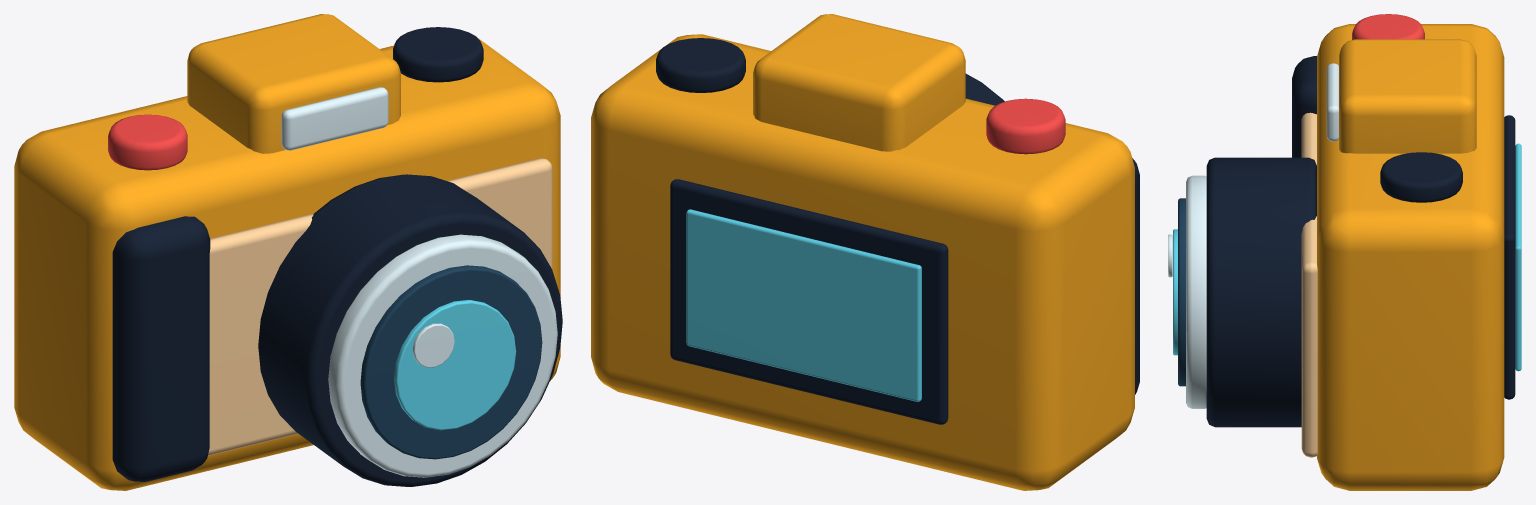
The model's file is camera.glb.
The picture shows the model from 3 angles, left to right: view 1: azimuth 30°, elevation 25°; view 2: azimuth 150°, elevation 25°; view 3: azimuth 270°, elevation 25°; orthographic projection. The views are drawn at different scales.
Parts seen in each view (by area): view 1: camera; view 2: camera; view 3: camera.
Part boxes in pixels (left/top/right/bottom): camera: left=14, top=14, right=562, bottom=490; camera: left=591, top=14, right=1139, bottom=490; camera: left=1168, top=14, right=1521, bottom=490.
Bounding box in the file's own units: 1 × 0.7389 × 0.7133.
Materials: 1 (1 with a texture image).
